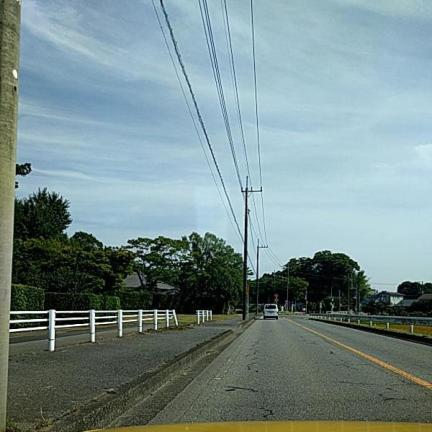Road: (151, 317, 431, 423)
